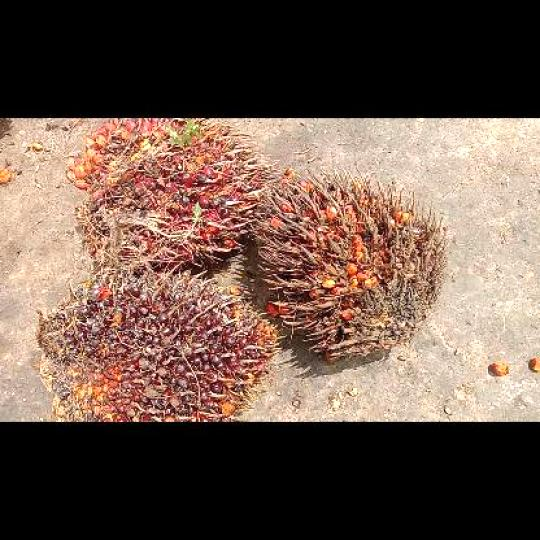kurang masak: (34, 278, 275, 420)
masak: (65, 117, 267, 272)
terlalu masak: (257, 178, 449, 366)
